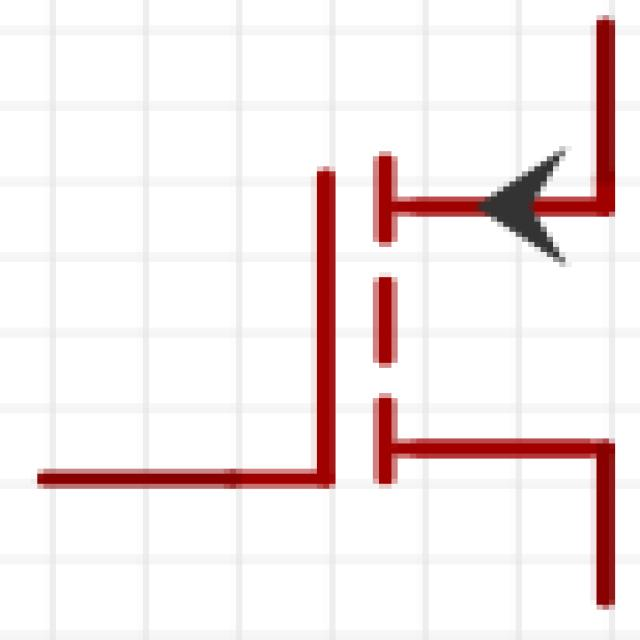nmos: (29, 20, 640, 604)
